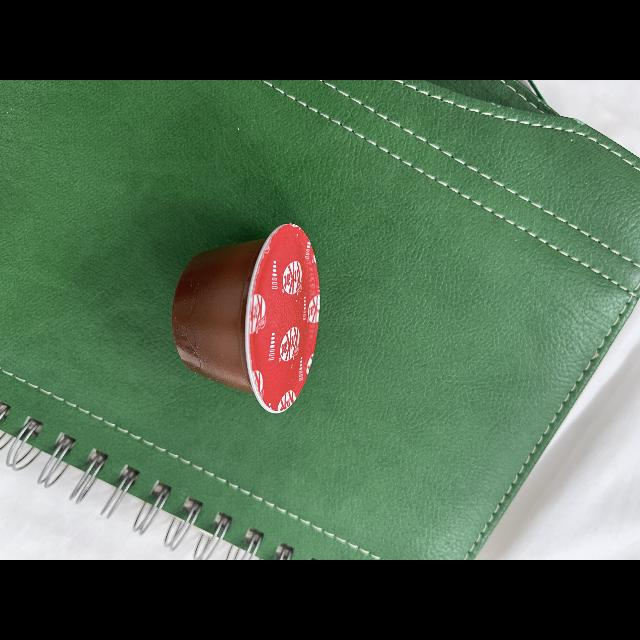intact_capsule: (164, 218, 333, 422)
